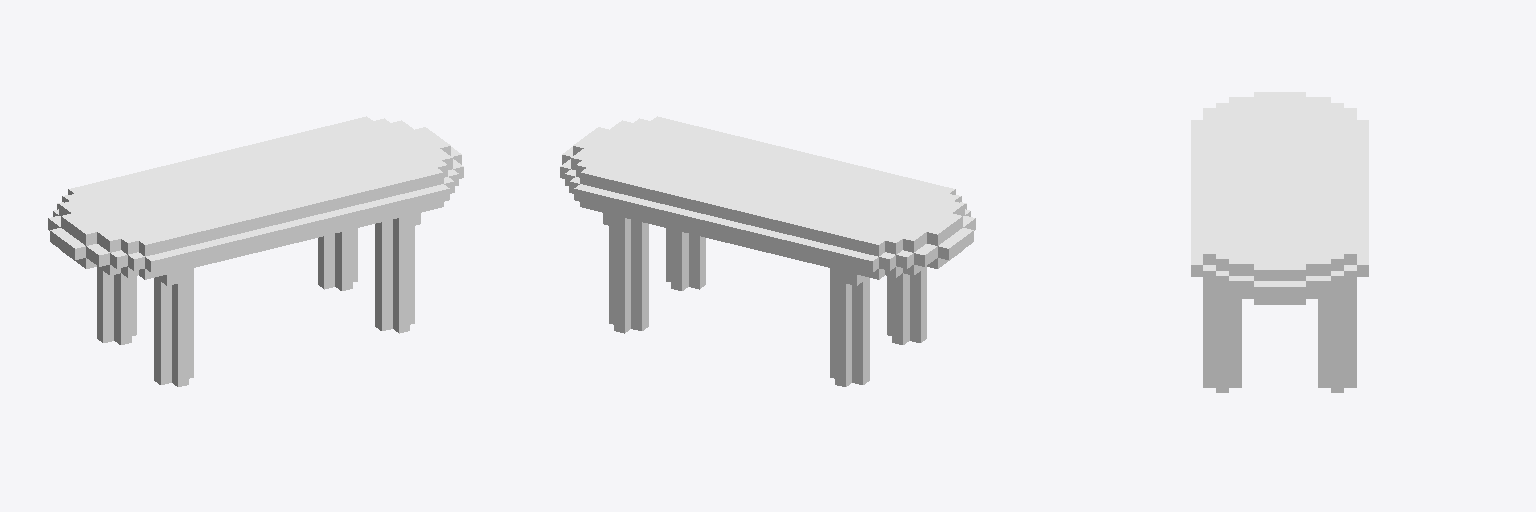
The model's file is prop_table_light_brown.obj.
3 views of the same model, side by side, from view 1: azimuth 30°, elevation 25°; view 2: azimuth 150°, elevation 25°; view 3: azimuth 270°, elevation 25° (orthographic).
Visible parts, largest first — view 1: object 1; view 2: object 1; view 3: object 1.
Boxes of the visible parts, x1=… form: object 1: x1=48, y1=116, x2=463, y2=386; object 1: x1=560, y1=116, x2=975, y2=386; object 1: x1=1191, y1=92, x2=1368, y2=392.
Bounding box in the file's own units: 3.5 × 1.3 × 1.4.